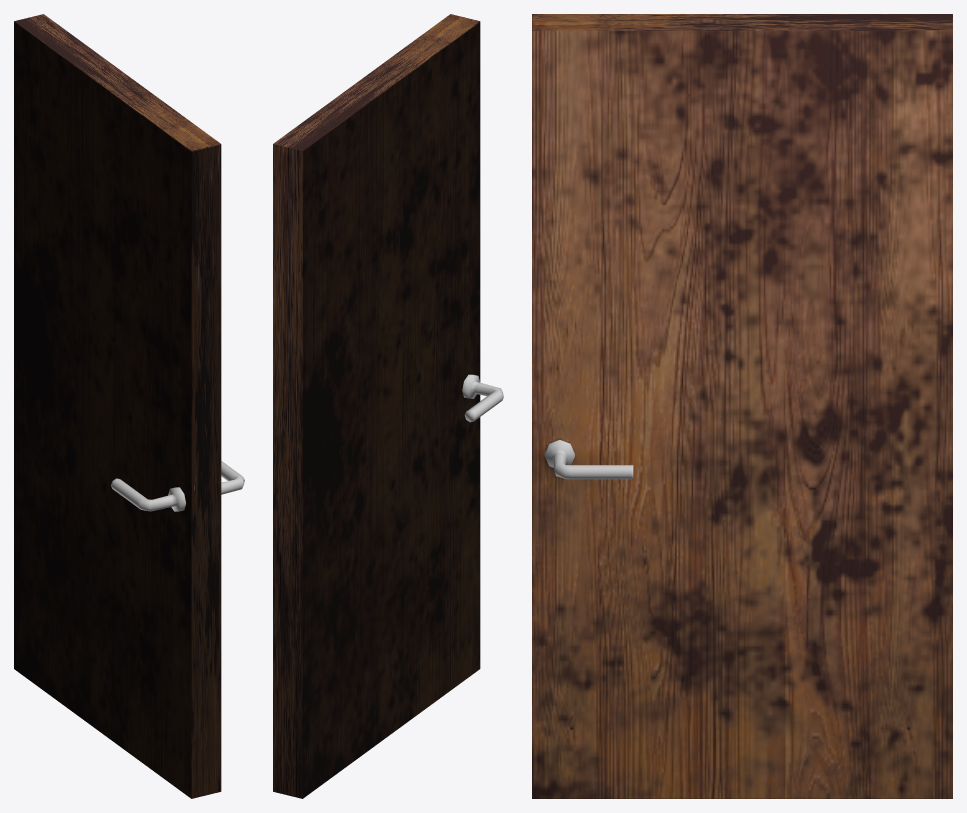
File: puerta_puzzle_v02.fbx
3 renders of one model, left to right at view 1: azimuth 30°, elevation 25°; view 2: azimuth 150°, elevation 25°; view 3: azimuth 270°, elevation 25°, orthographic. The views are drawn at different scales.
Visible parts, largest first — view 1: puerta.001, manija; view 2: puerta.001, manija; view 3: puerta.001, manija.
Part boxes in pixels (x1,y1,x2,y2): puerta.001: (14, 14, 221, 798); manija: (111, 461, 244, 511); puerta.001: (273, 14, 480, 798); manija: (462, 374, 503, 422); puerta.001: (532, 14, 952, 798); manija: (544, 440, 633, 479).
Size of the model in its own units: 34.08 by 200 by 99.22.
